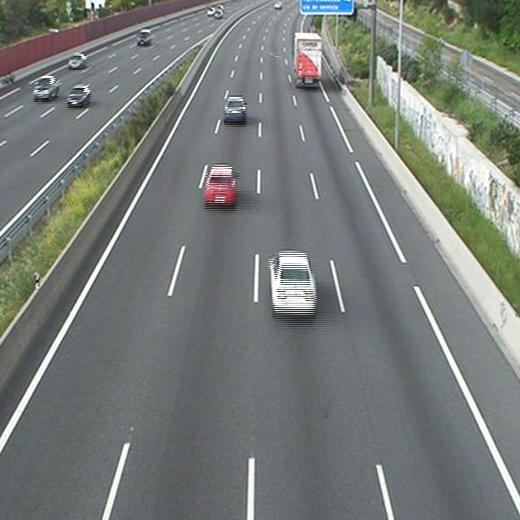car: (269, 253, 316, 313), (204, 166, 236, 203), (224, 97, 245, 122)
small-truck: (294, 33, 321, 85)
